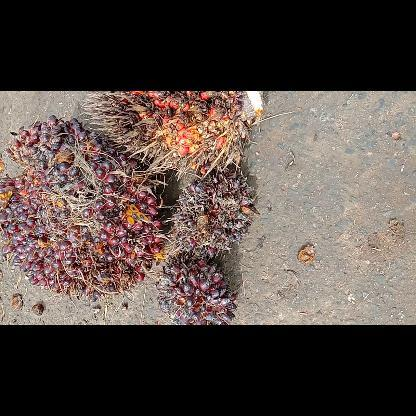TBS abnormal: (169, 170, 261, 262), (156, 252, 240, 324)
TBS masak: (0, 114, 168, 304)
Terlalu masak: (77, 91, 267, 179)
